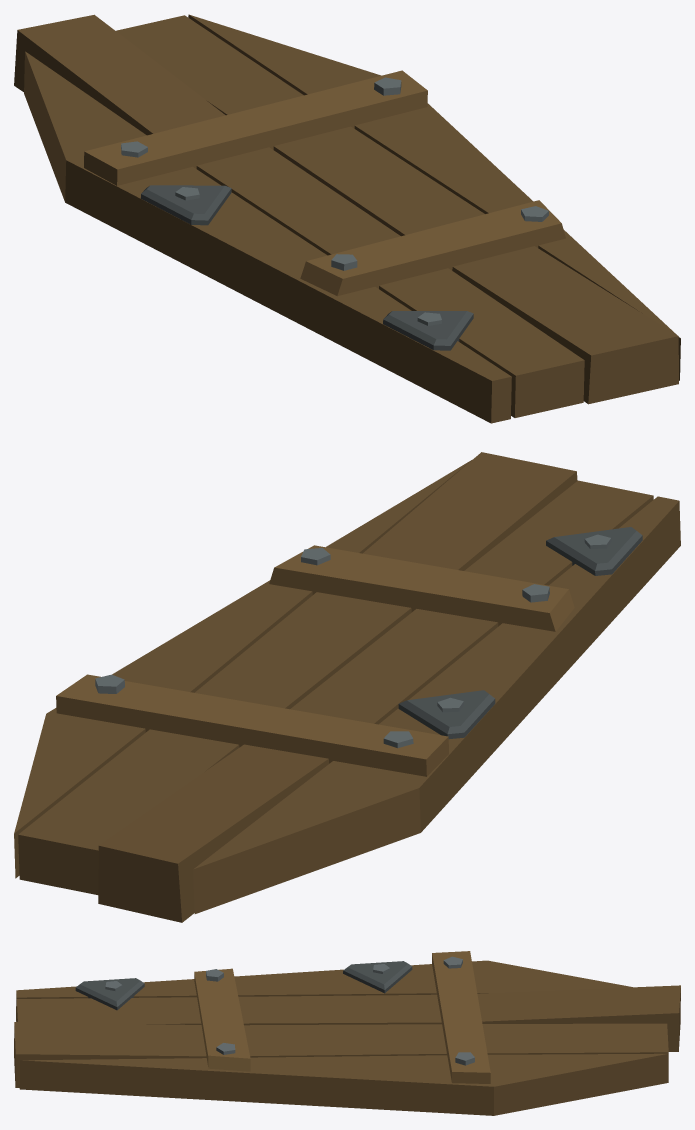
File: SM_CoffinTop.fbx
3 renders of one model, top to bottom at view 1: azimuth 30°, elevation 25°; view 2: azimuth 150°, elevation 25°; view 3: azimuth 270°, elevation 25°, orthographic. The views are drawn at different scales.
Parts seen in each view (by area): view 1: Wooden_Coffin_B.002; view 2: Wooden_Coffin_B.002; view 3: Wooden_Coffin_B.002.
Part boxes in pixels (x1,y1,x2,y2): Wooden_Coffin_B.002: (14,14,680,423); Wooden_Coffin_B.002: (14,452,680,922); Wooden_Coffin_B.002: (14,951,680,1115).
Bounding box in the file's own units: 69.08 × 14.57 × 164.
1 material, 1 textured.
